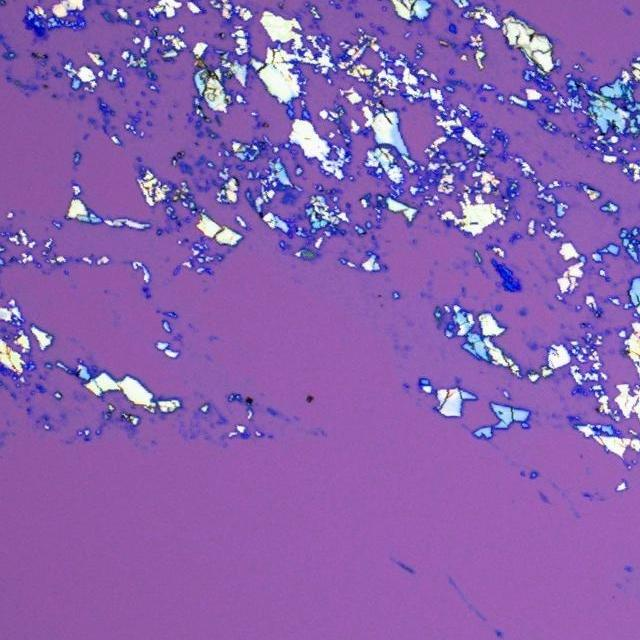monolayer-eWW4: (538, 488, 552, 504)
